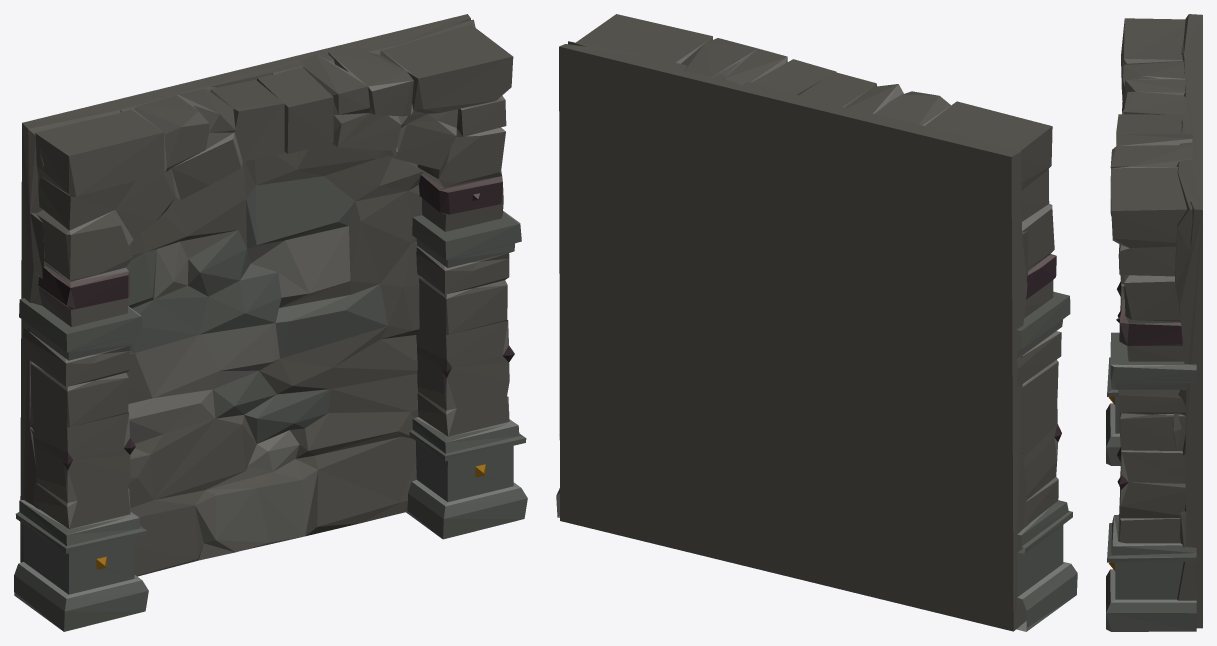
The model's file is MDungeons_Wals_Arched_03.FBX.
3 renders of one model, left to right at view 1: azimuth 30°, elevation 25°; view 2: azimuth 150°, elevation 25°; view 3: azimuth 270°, elevation 25°, orthographic. The views are drawn at different scales.
Parts seen in each view (by area): view 1: MDungeons_Wals_Arched_03_LOD0; view 2: MDungeons_Wals_Arched_03_LOD0; view 3: MDungeons_Wals_Arched_03_LOD0.
Boxes of the visible parts, x1=… form: MDungeons_Wals_Arched_03_LOD0: x1=14, y1=14, x2=527, y2=631; MDungeons_Wals_Arched_03_LOD0: x1=556, y1=14, x2=1077, y2=631; MDungeons_Wals_Arched_03_LOD0: x1=1106, y1=14, x2=1202, y2=631.
Size of what is drawn, in the model's own units: 6.25 by 6.06 by 1.26.
